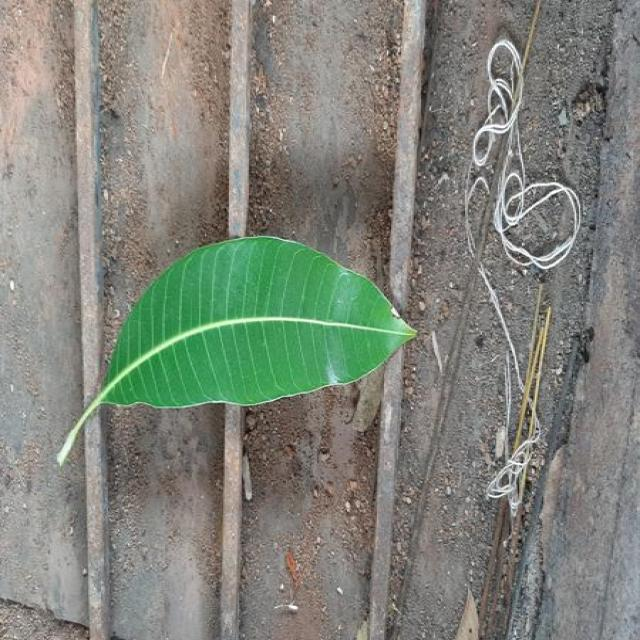mango: (57, 236, 415, 463)
